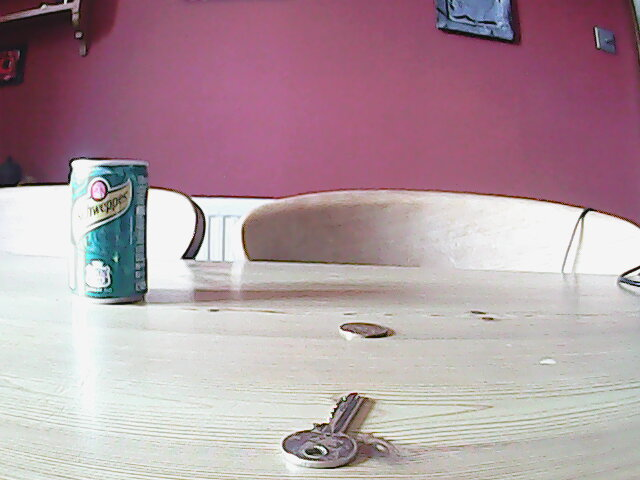Can: (65, 157, 154, 305)
Coin: (338, 318, 386, 342)
Key: (280, 388, 363, 470)
